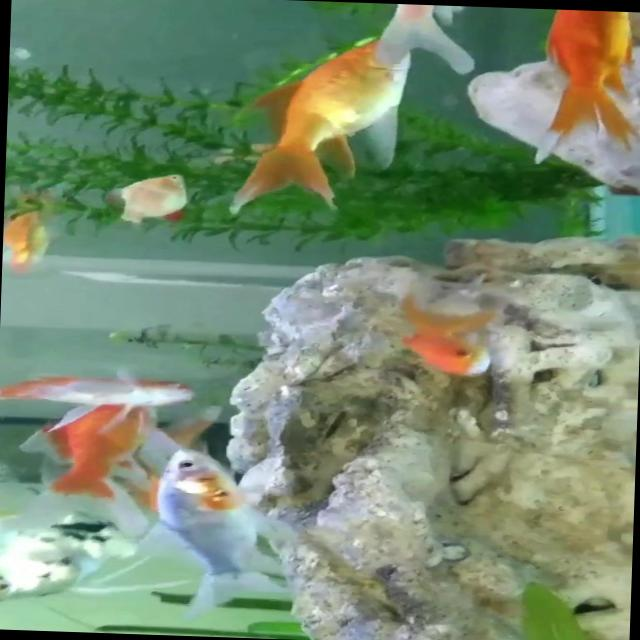GoldFish: (223, 32, 420, 225), (133, 435, 299, 627), (380, 282, 518, 383), (51, 398, 139, 502)
